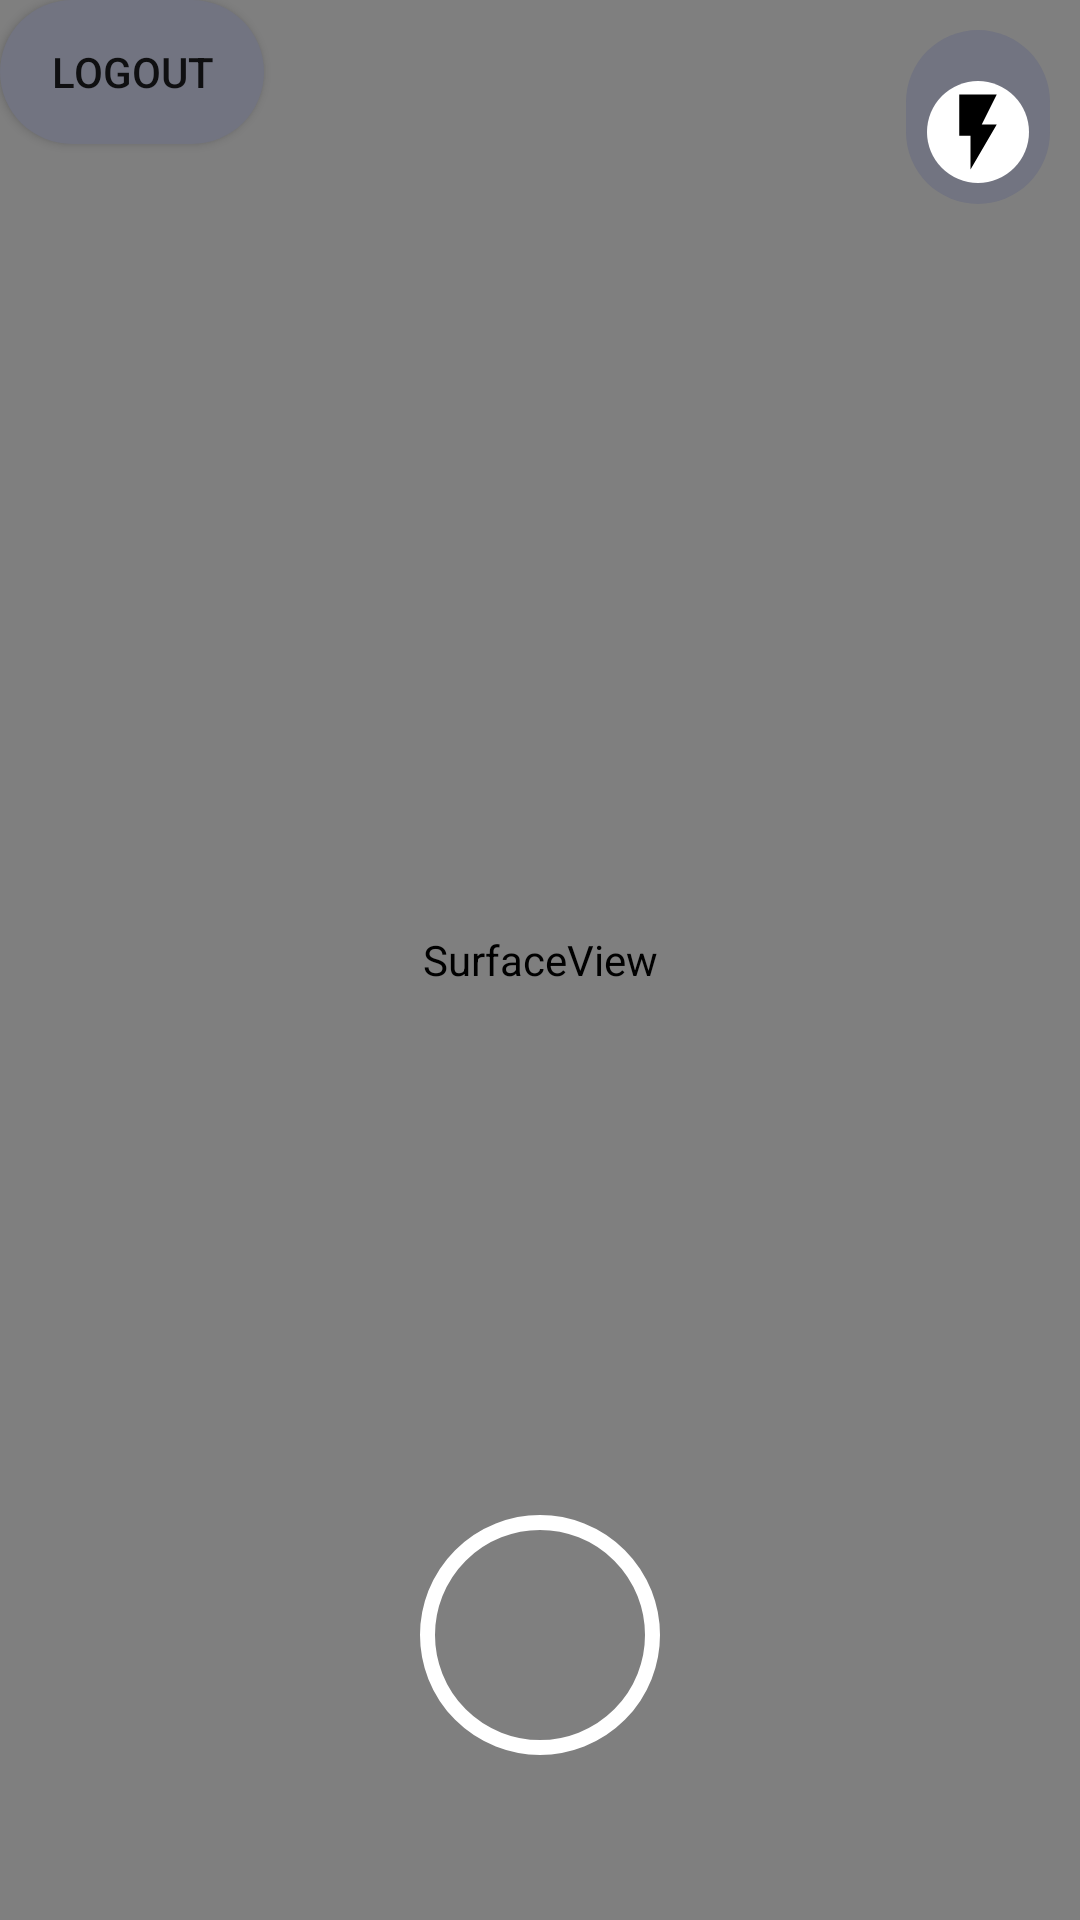

Named icons in this screenshot (1080 x 1920) and their bounding boxes, (x1, y1, x2, y2):
flash on: (927, 81, 1029, 183)
